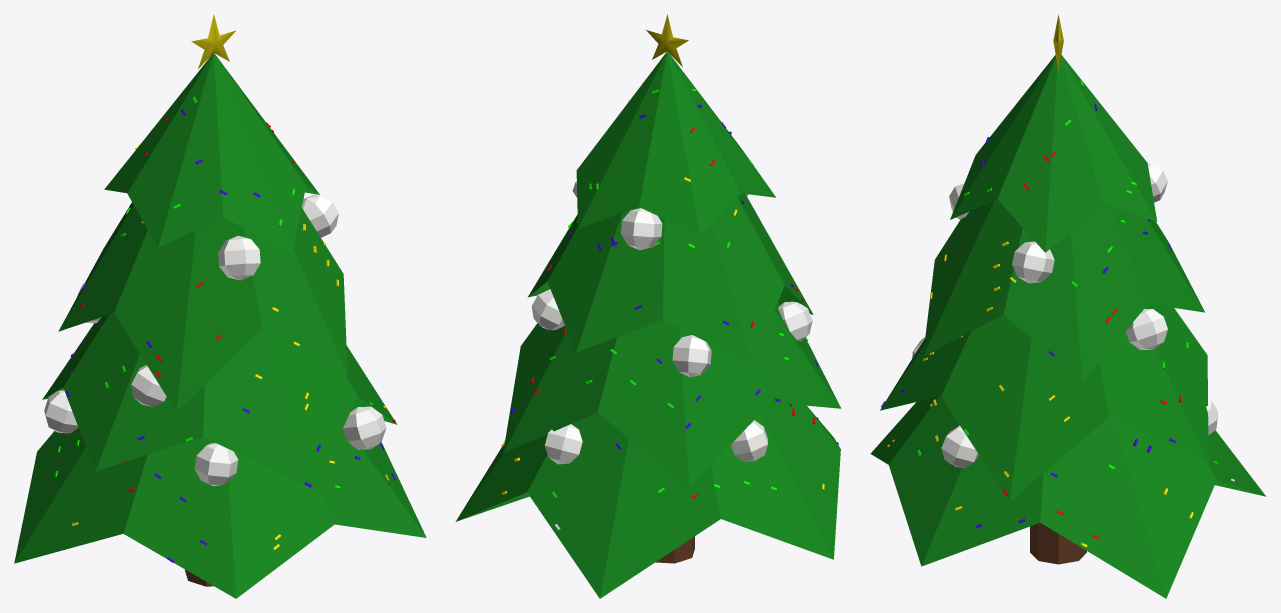
The model's file is Tree.fbx.
3 renders of one model, left to right at view 1: azimuth 30°, elevation 25°; view 2: azimuth 150°, elevation 25°; view 3: azimuth 270°, elevation 25°, orthographic. The views are drawn at different scales.
Visible parts, largest first — view 1: pCube3; view 2: pCube3; view 3: pCube3.
Part boxes in pixels (bbox=[...]): pCube3: bbox=[14, 14, 426, 598]; pCube3: bbox=[455, 14, 841, 598]; pCube3: bbox=[870, 14, 1265, 598].
Bounding box in the file's own units: 18.03 × 27.48 × 18.33.
